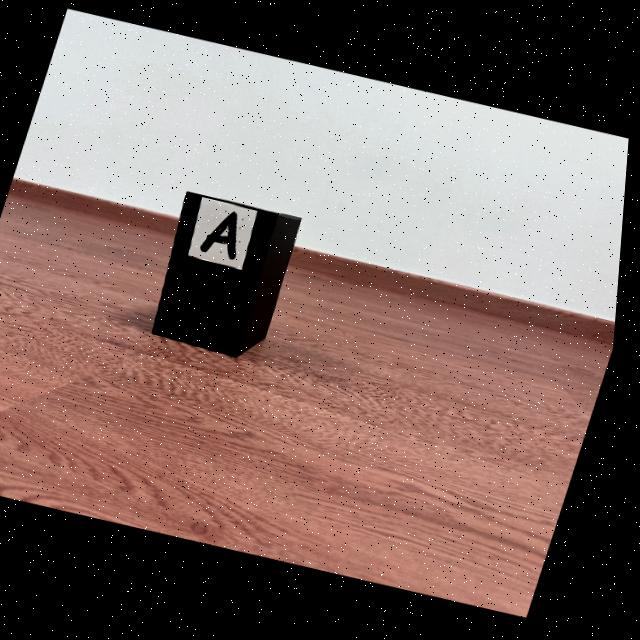A: (204, 213, 241, 260)
